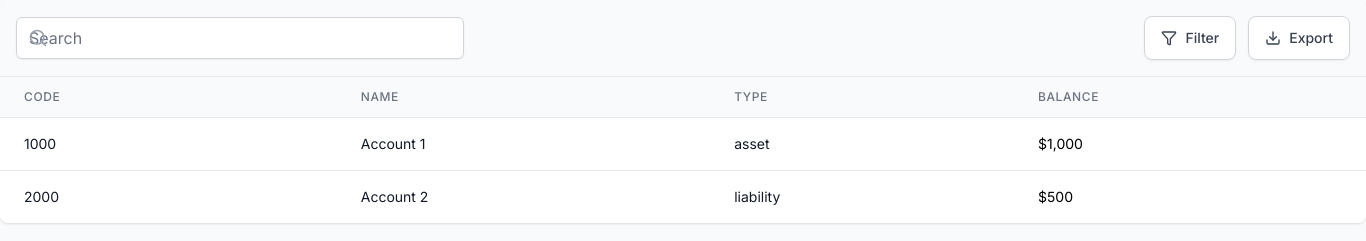
DataTable Component › handles search functionality
The image size is (1366, 241).
Step 1. Type "Account 1" into the field with placeholder "Search" → (240, 38), box x1=16 y1=17 x2=464 y2=59
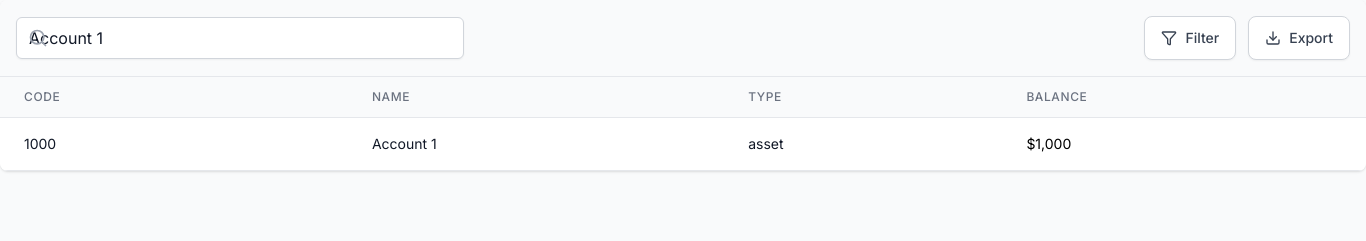
Expected: the text "Account 1" is shown, x1=372 y1=135 x2=437 y2=152
Expected: the text "Account 2" is gone
